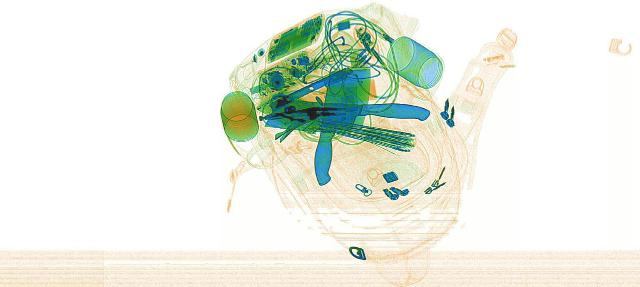Knife: (261, 92, 431, 139), (311, 68, 371, 183)
